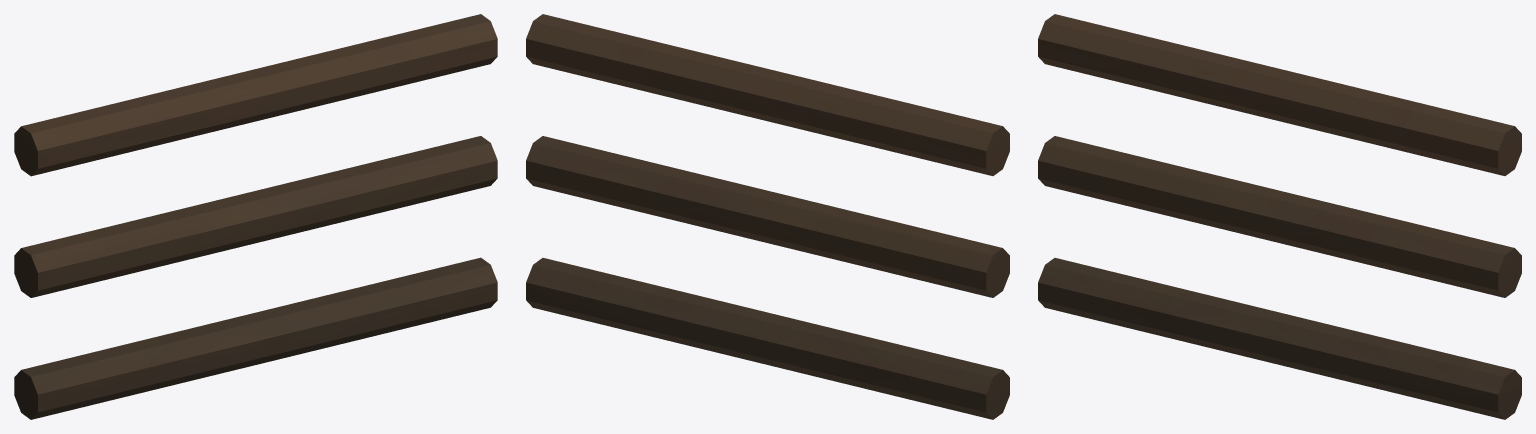
Rendered from Fence_Post_Rails.obj.
The picture shows the model from 3 angles, left to right: view 1: azimuth 30°, elevation 25°; view 2: azimuth 150°, elevation 25°; view 3: azimuth 330°, elevation 25°; orthographic projection.
Parts seen in each view (by area): view 1: Fence_Post_Rails; view 2: Fence_Post_Rails; view 3: Fence_Post_Rails.
Boxes of the visible parts, <box> form: Fence_Post_Rails: <box>14,14,497,419</box>; Fence_Post_Rails: <box>526,14,1009,419</box>; Fence_Post_Rails: <box>1038,14,1521,419</box>.
Bounding box in the file's own units: 1.41 × 0.8411 × 0.1266.
